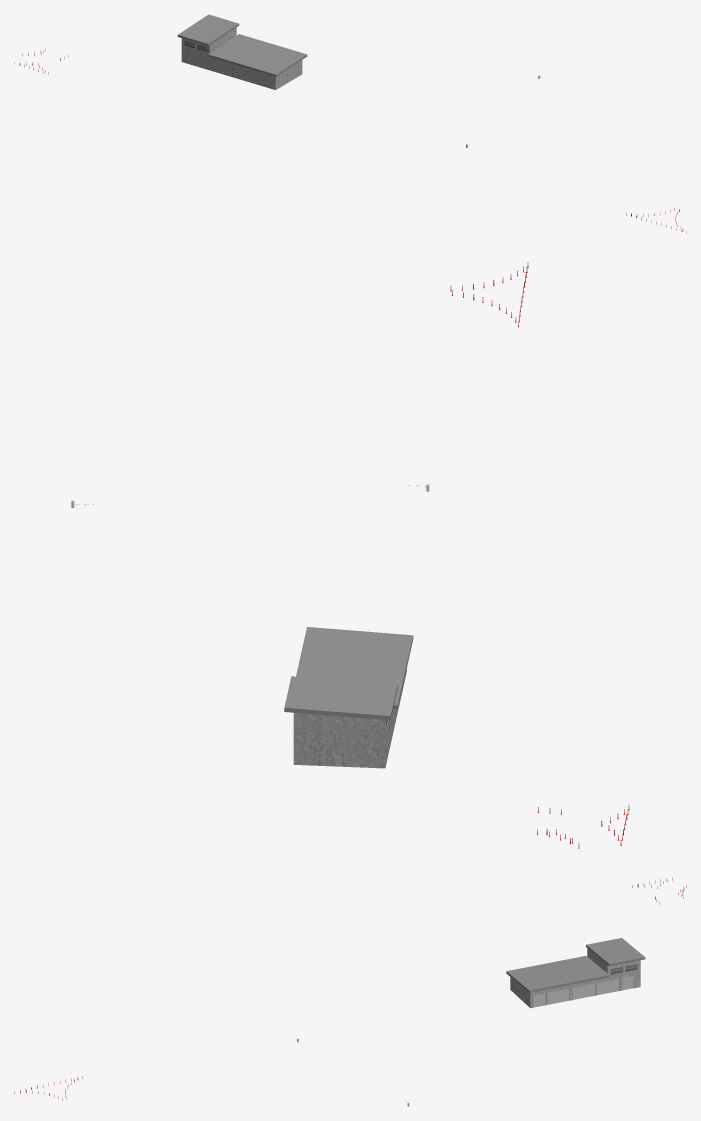
The model's file is 除雪車格納庫等.FBX.
The picture shows the model from 3 angles, top to bottom: view 1: azimuth 30°, elevation 25°; view 2: azimuth 150°, elevation 25°; view 3: azimuth 270°, elevation 25°; orthographic projection. The views are drawn at different scales.
Parts seen in each view (by area): view 1: 除雪車基地; view 2: 除雪車基地; view 3: 除雪車基地.
Boxes of the visible parts, box(x1,y1,x2,y2) form: 除雪車基地: box(177, 14, 307, 89); 除雪車基地: box(284, 627, 413, 768); 除雪車基地: box(506, 938, 645, 1008).
Size of the model in its own units: 160 by 16.43 by 222.
